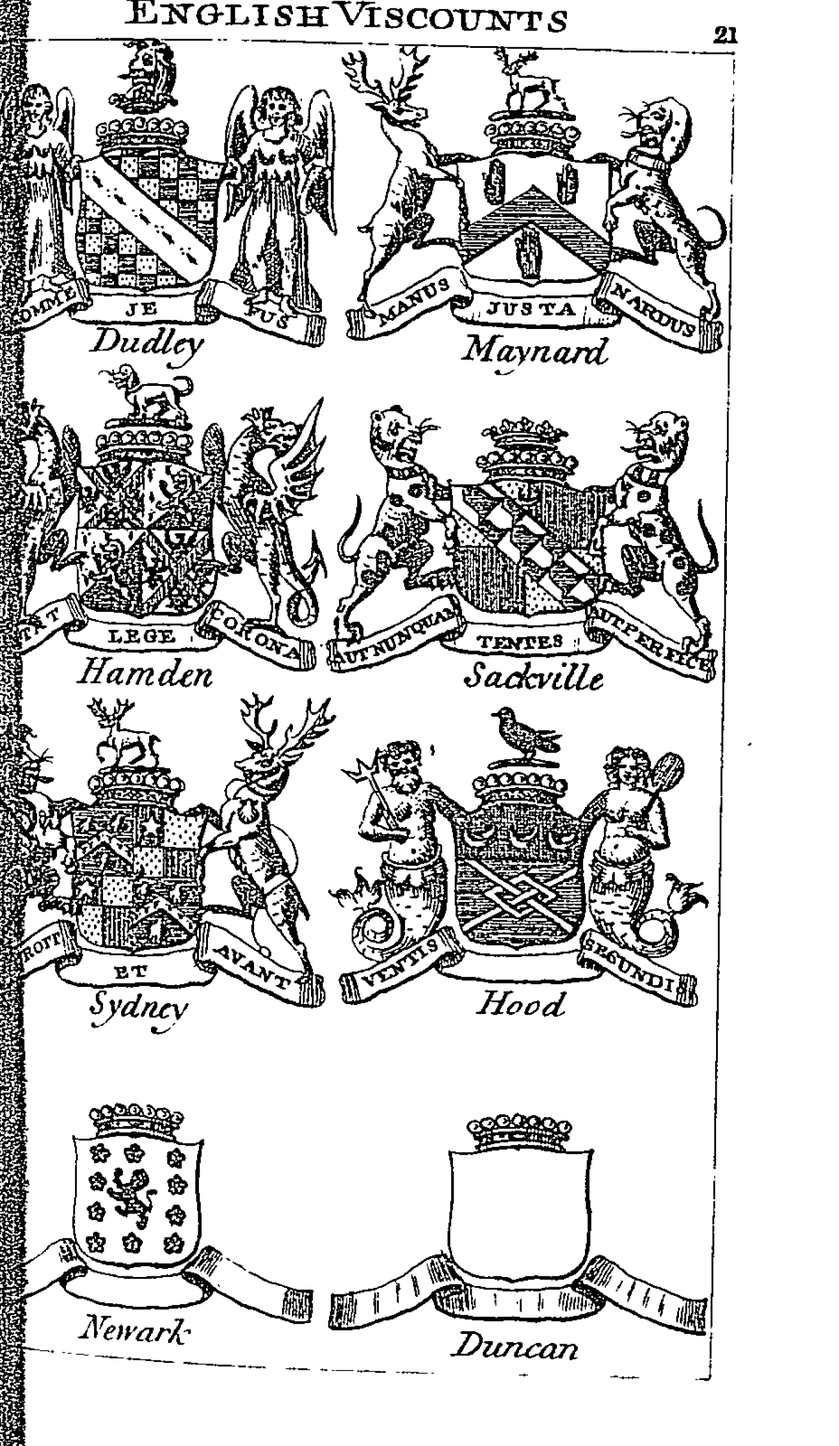coat_of_arms: (342, 44, 726, 372), (338, 700, 709, 1035), (336, 381, 723, 699), (329, 1076, 709, 1369), (19, 693, 331, 1033), (11, 46, 340, 363), (12, 364, 319, 692), (19, 1079, 322, 1370)
